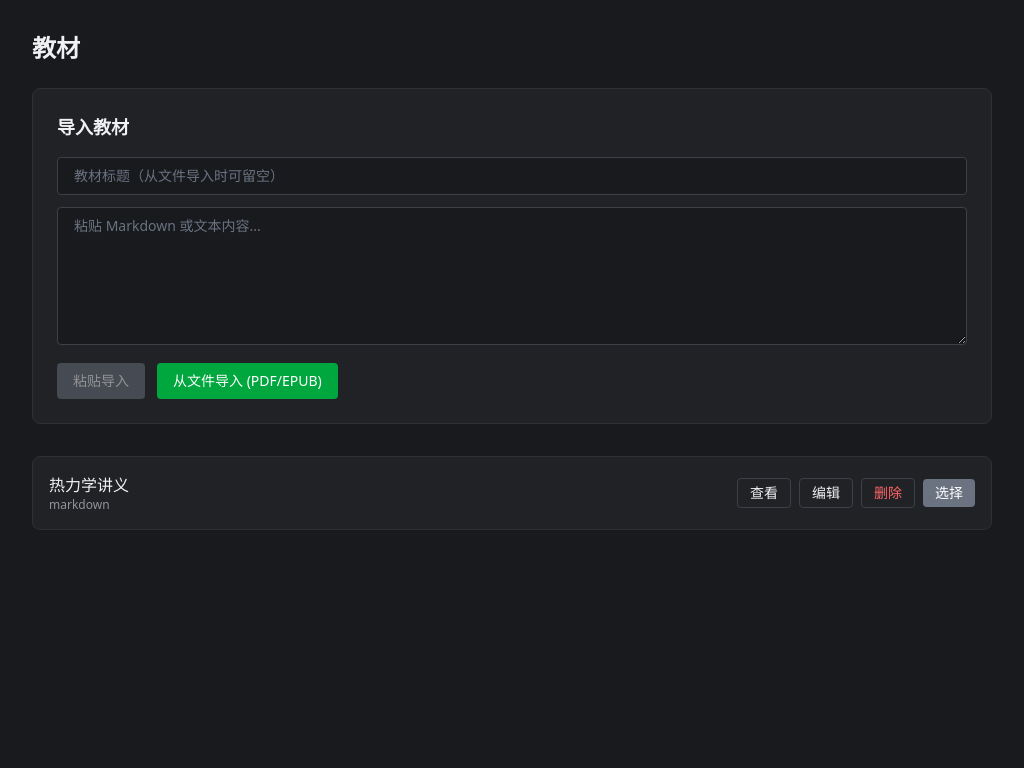
TextbooksView — import › surfaces paste-import failures
Type "x" into the field with placeholder "教材标题（从文件导入时可留空）".
click(512, 176); type("x")  # box x1=57 y1=157 x2=967 y2=195
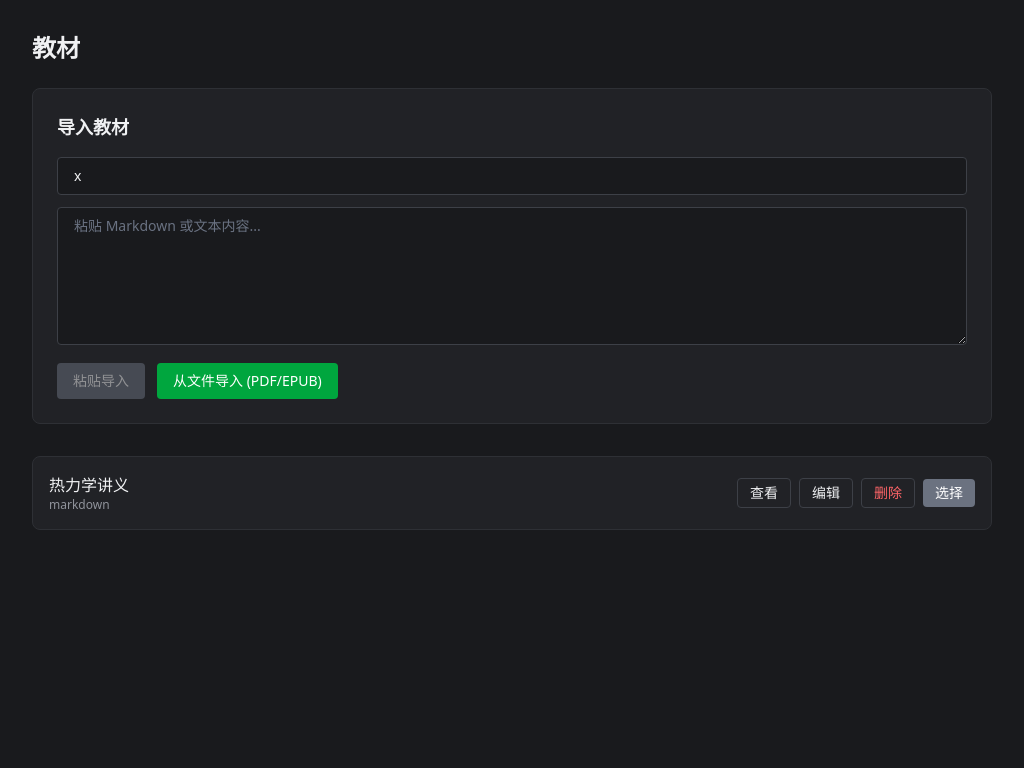
Type "y" into the text box with placeholder "粘贴 Markdown 或文本内容...".
click(512, 276); type("y")  # box x1=57 y1=207 x2=967 y2=345
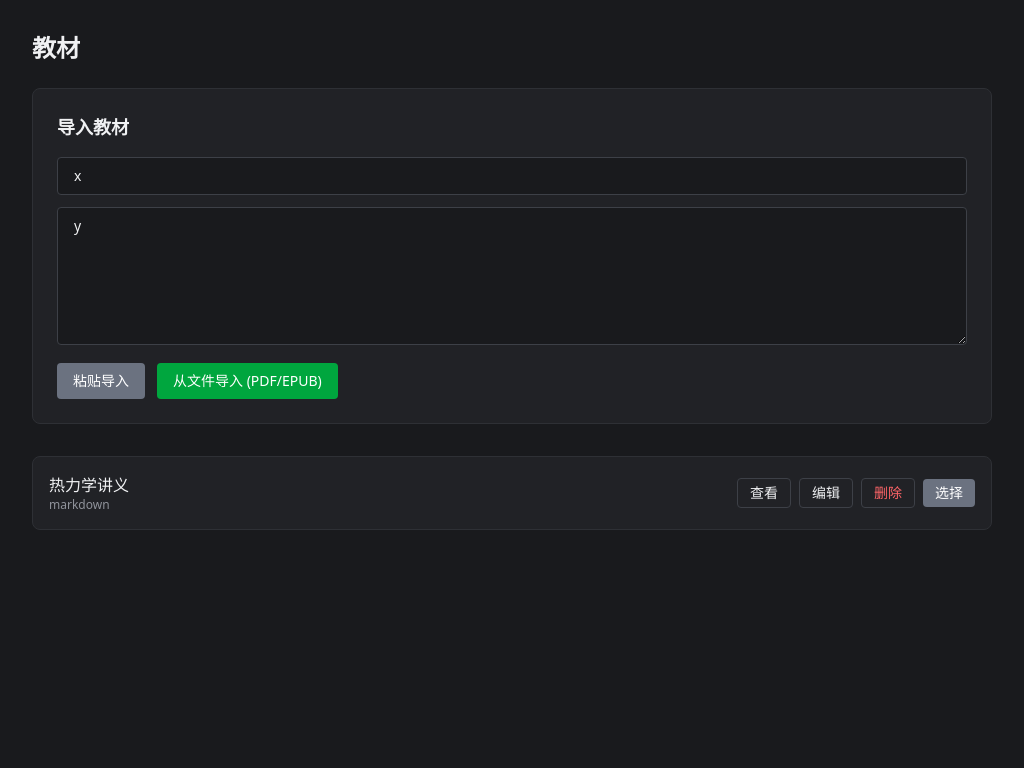
Click the button "粘贴导入".
click(101, 381)  # box x1=57 y1=363 x2=145 y2=399
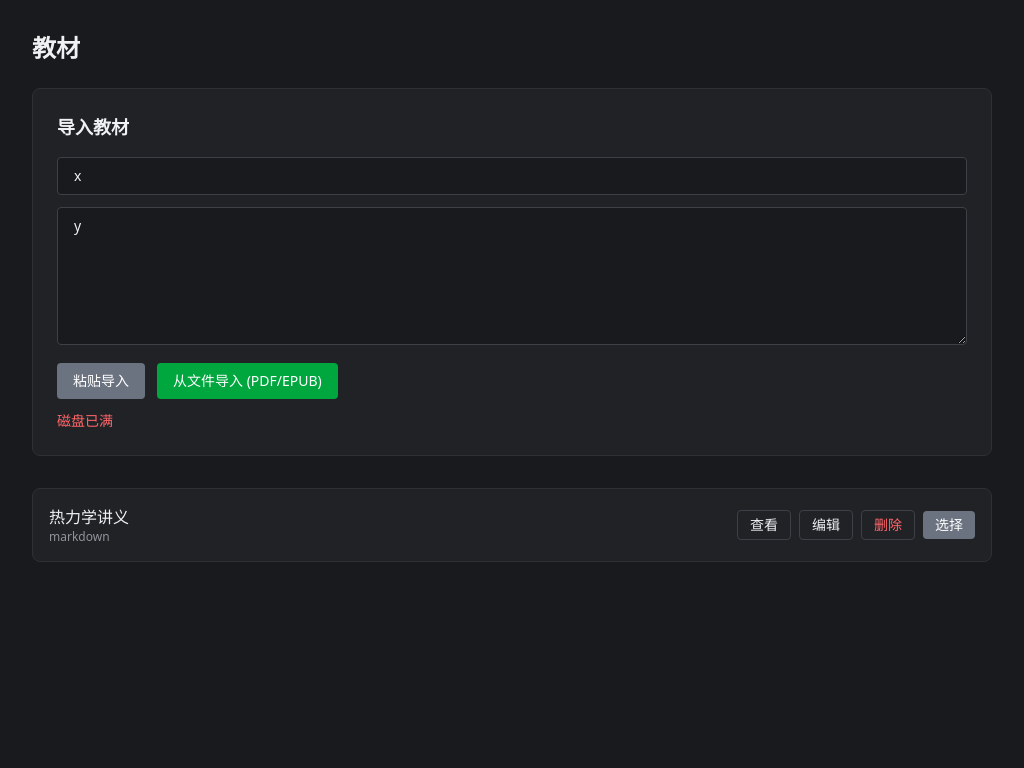
Check: the text "磁盘已满" is shown, box x1=57 y1=411 x2=113 y2=430
